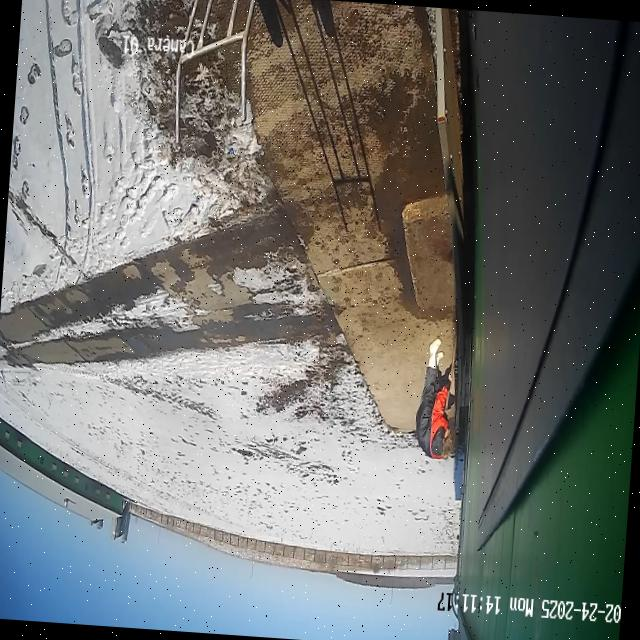Red uniform: (411, 333, 464, 464)
